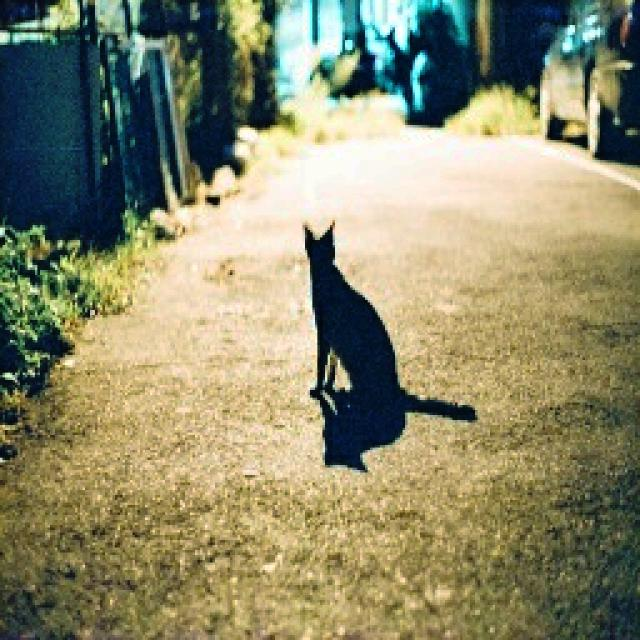cat: (276, 211, 489, 449)
